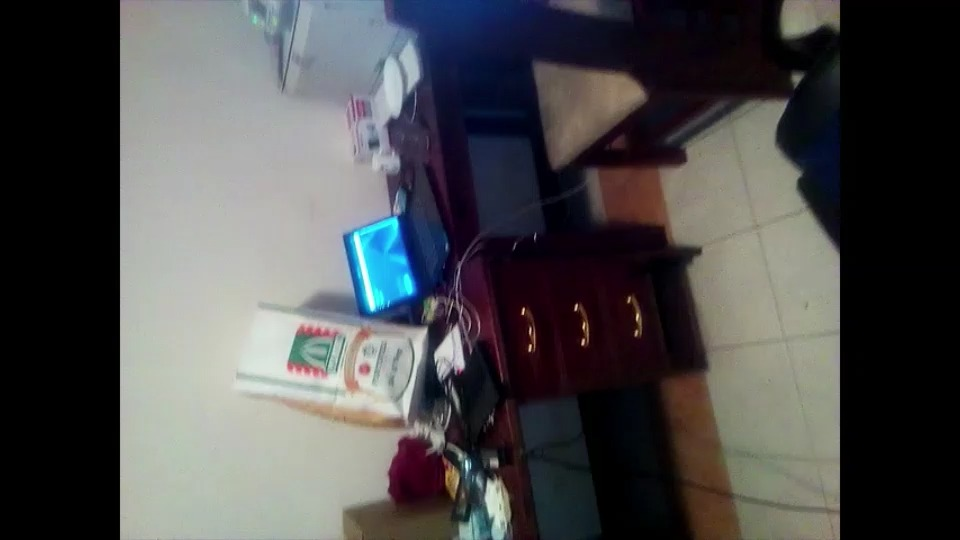maize_flour_green_label: (233, 304, 421, 425)
